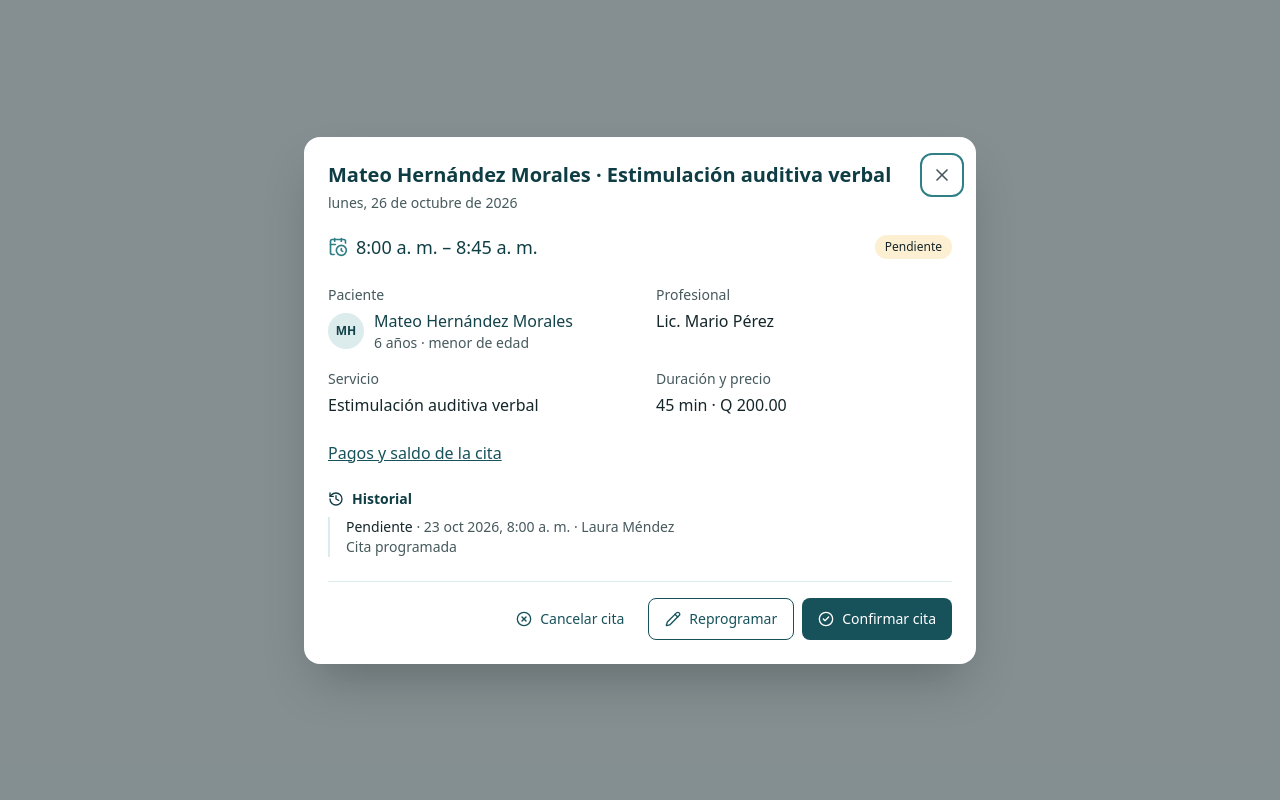
Scenario: Detalle de la cita › confirmar envía el cambio de estado y avisa
Click the button "Confirmar cita" at [877, 618], box [802,598,952,640]
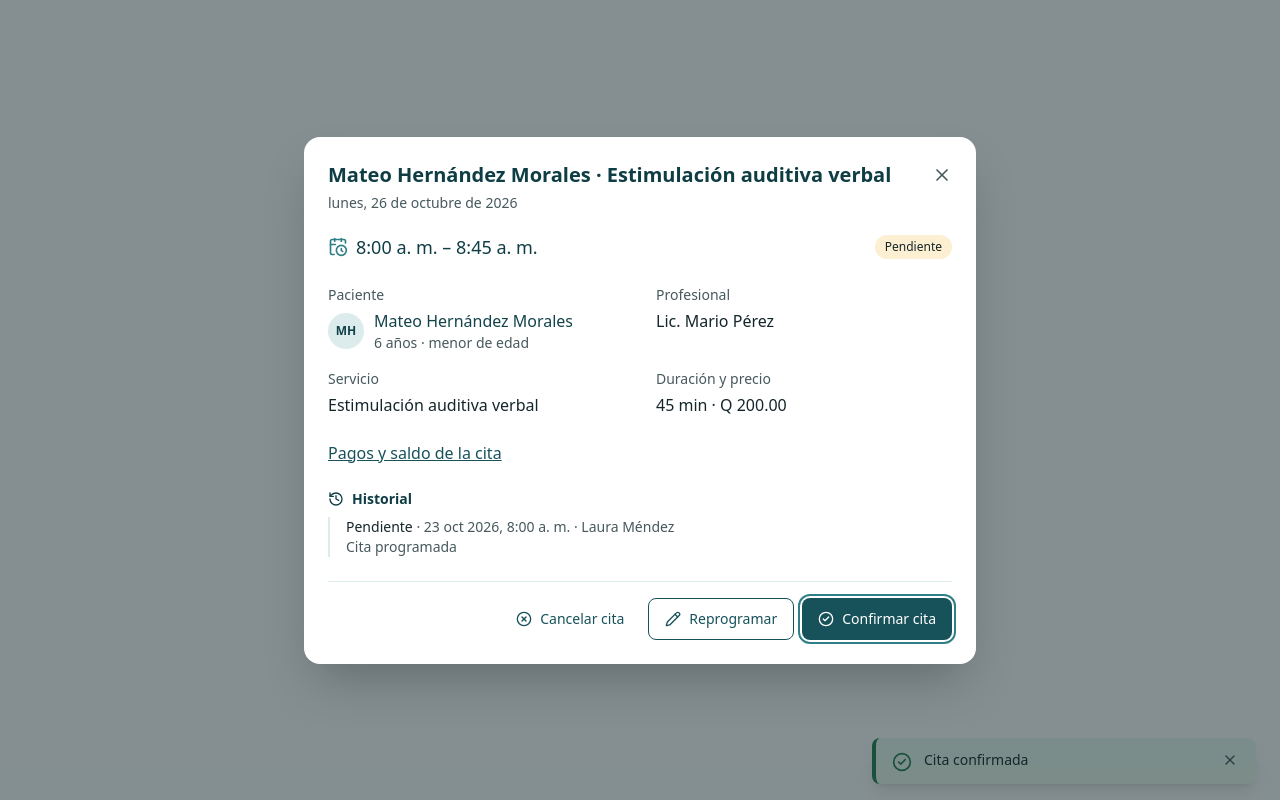
Expected: the text "Cita confirmada" is shown, [924,750,1028,769]
